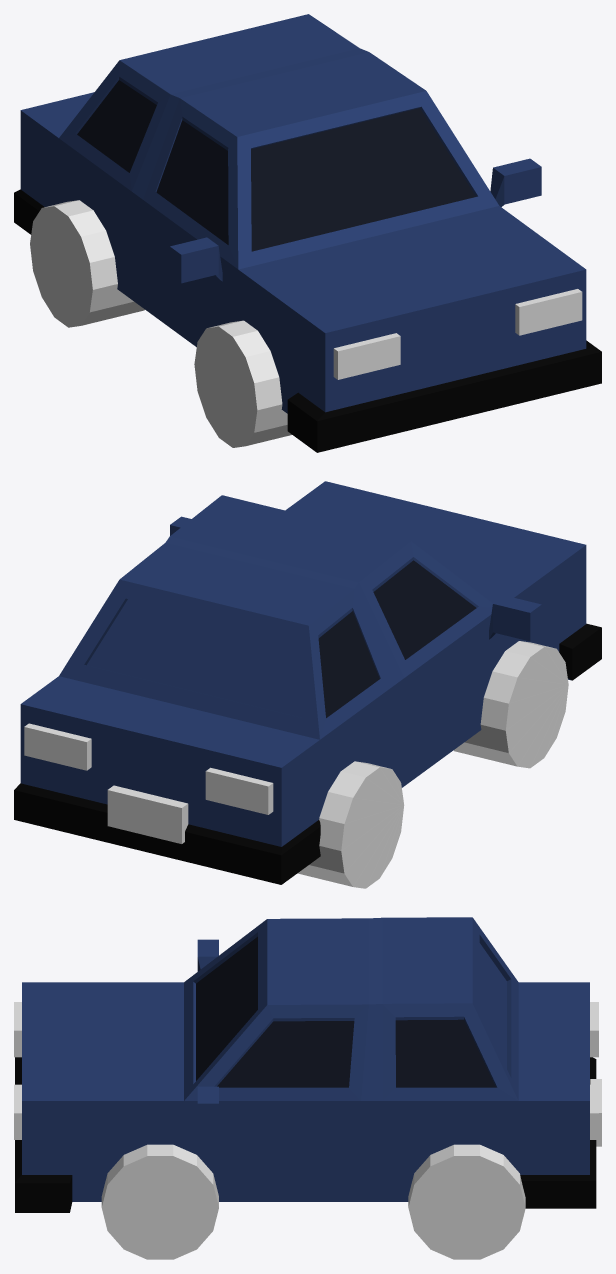
The model's file is car3.fbx.
3 renders of one model, top to bottom at view 1: azimuth 30°, elevation 25°; view 2: azimuth 150°, elevation 25°; view 3: azimuth 270°, elevation 25°, orthographic. The views are drawn at different scales.
Parts seen in each view (by area): view 1: Car, Wheelwell.001, Wheelwell, Headlight, Headlight.002; view 2: Car, Wheelwell, Wheelwell.001, Headlight.001, Cube, Headlight.002; view 3: Car, Wheelwell, Wheelwell.001, Headlight.002, Headlight.001, Headlight.
Part boxes in pixels (x1,y1,x2,y2): Car: (14, 14, 601, 452); Wheelwell.001: (30, 200, 144, 327); Wheelwell: (194, 320, 291, 447); Headlight: (333, 289, 582, 379); Headlight.002: (170, 158, 541, 283); Car: (14, 481, 601, 884); Wheelwell: (453, 641, 568, 768); Wheelwell.001: (297, 761, 404, 888); Headlight.001: (24, 723, 273, 814); Cube: (107, 785, 188, 843); Headlight.002: (170, 516, 541, 641); Car: (15, 917, 596, 1212); Wheelwell: (101, 1144, 218, 1259); Wheelwell.001: (408, 1144, 525, 1259); Headlight.002: (197, 939, 218, 1130); Headlight.001: (590, 1002, 598, 1139); Headlight: (14, 1002, 21, 1139).
Bounding box in the file's own units: 276 × 181 × 418.
